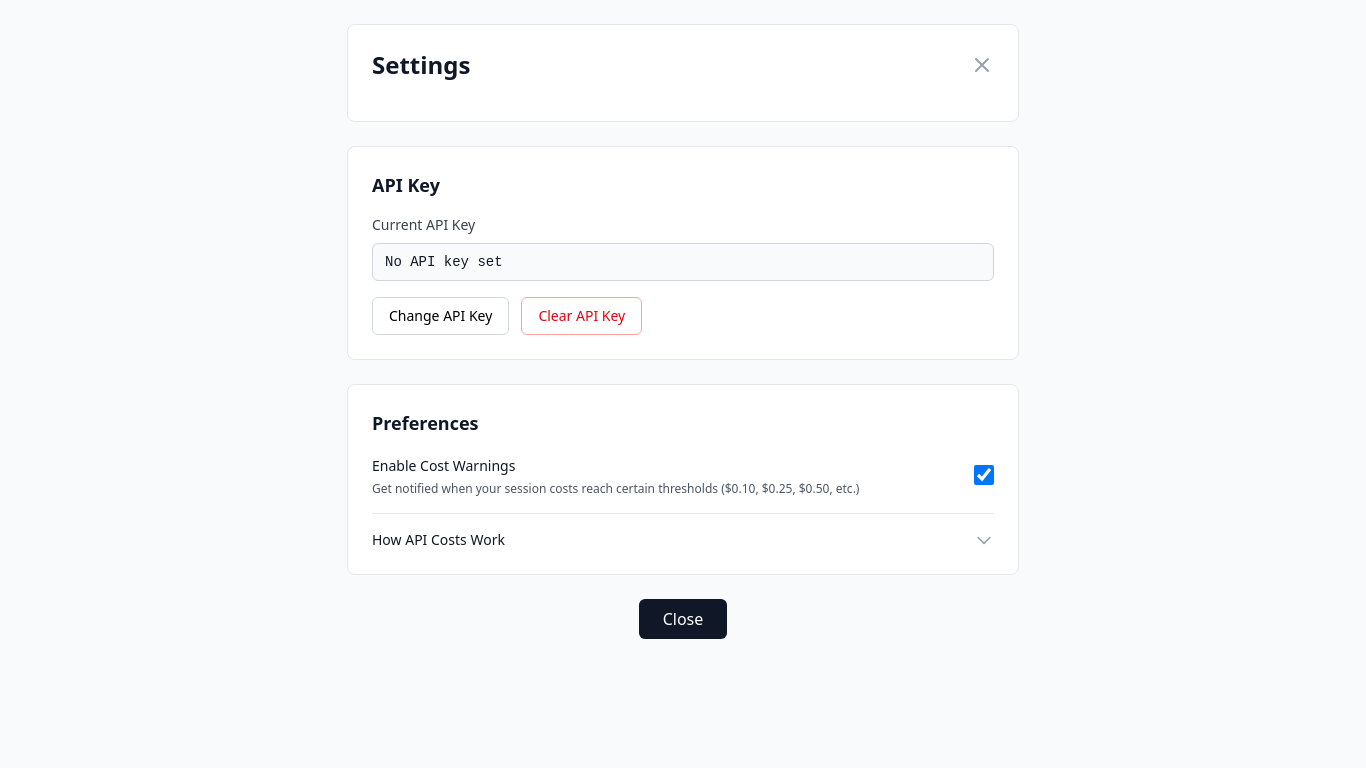
Scenario: Settings Component › Clear API Key › should show confirmation modal when clear button is clicked
Click the button "Clear API Key" at [582, 316], box [521,297,642,335]
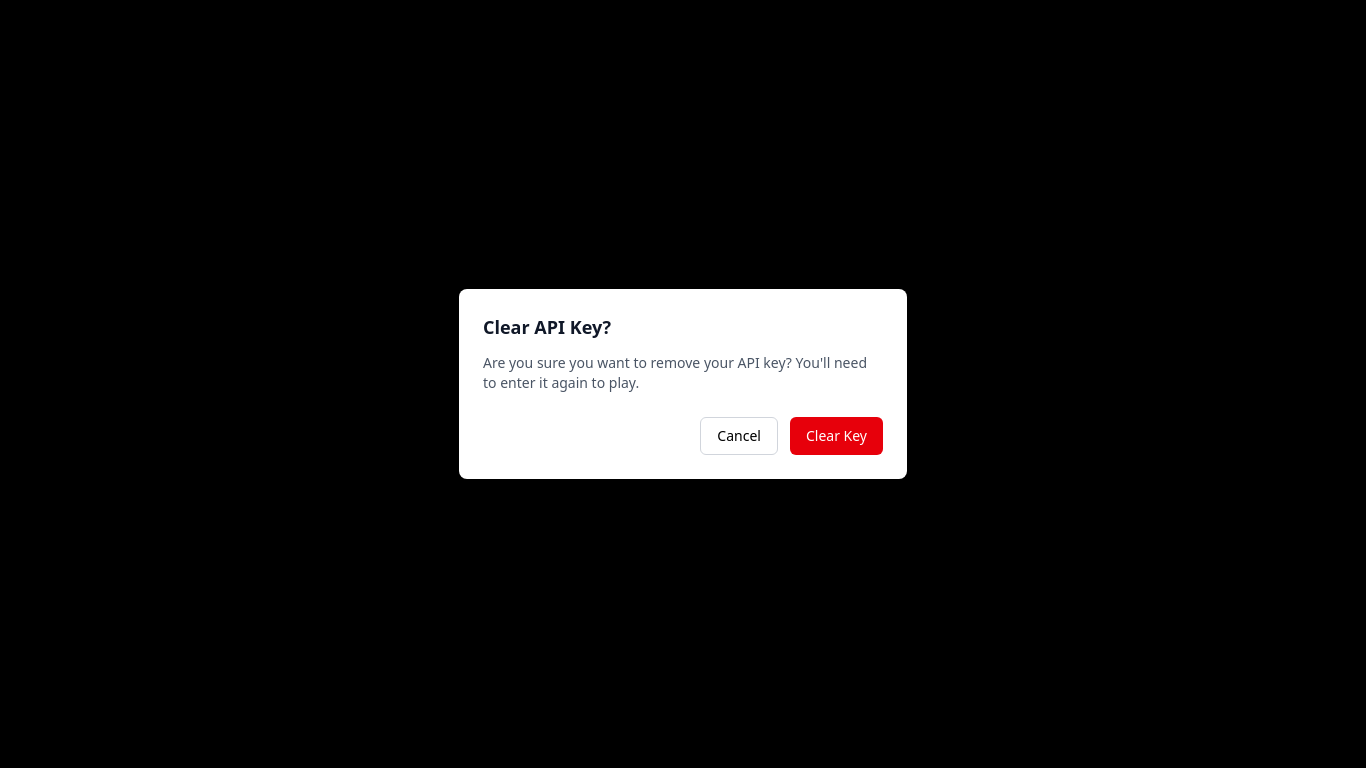
Result: the heading "Clear API Key?" is shown at [483,315,611,339]
Result: the text "Are you sure" is shown at [483,353,867,392]
